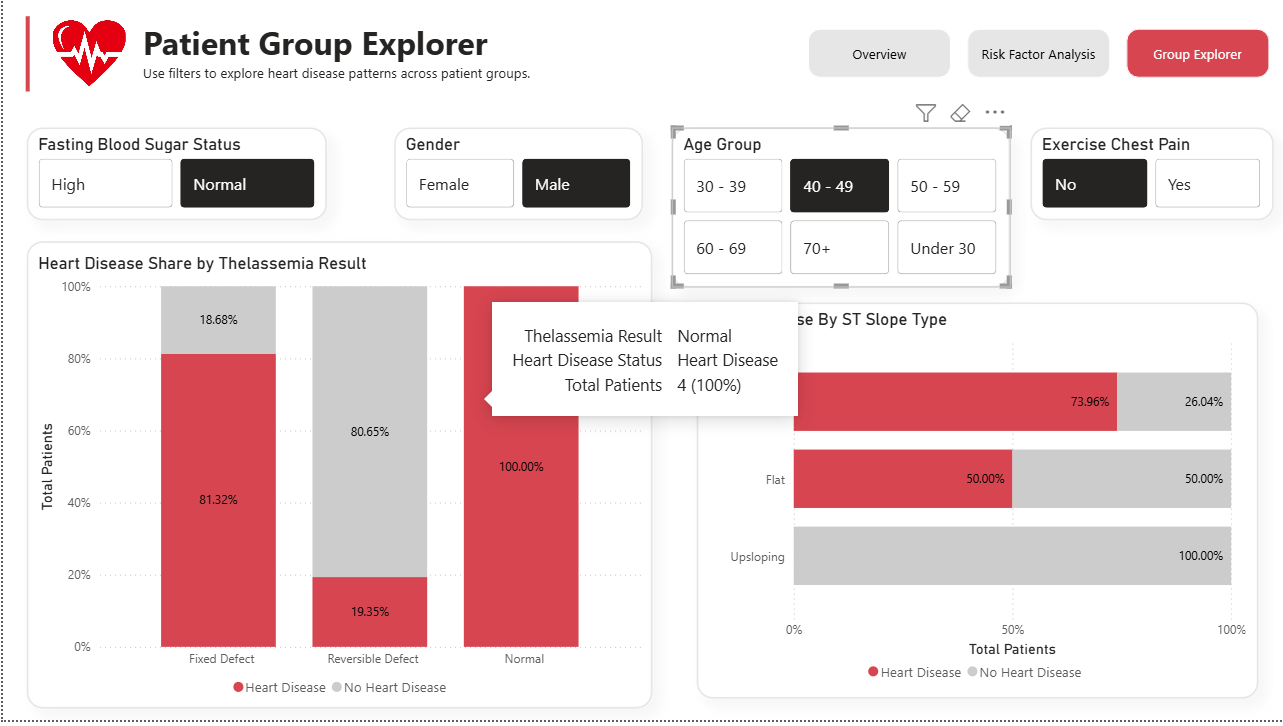

Layout of this report page (visuals, bound fields, positions):
{"tool":"powerbi","page":{"name":"Group Explorer","canvas":[1280,720],"ordinal":2},"visuals":[{"type":"pageNavigator","box":[805.5,28.8,463.8,49.4],"z":0},{"type":"shape","box":[0,16.5,49.4,75.5],"z":1000},{"type":"textbox","box":[134.5,16.5,583.2,75.5],"z":2000},{"type":"image","box":[49.4,16.5,72.7,75.5],"z":3000},{"type":"advancedSlicerVisual","fields":{"Values":["Cardio Heart Dashboard.Age Group"]},"box":[668.6,127.1,338.6,160],"z":4000},{"type":"advancedSlicerVisual","fields":{"Values":["Cardio Heart Dashboard.Gender"]},"box":[391.4,127.1,248.6,92.9],"z":5000},{"type":"advancedSlicerVisual","fields":{"Values":["Cardio Heart Dashboard.Exercise Chest Pain"]},"box":[1027.1,127.1,242.9,92.9],"z":6000},{"type":"hundredPercentStackedColumnChart","title":"Heart Disease Share by Thelassemia Result","fields":{"Category":["Cardio Heart Dashboard.Thelassemia Result"],"Y":["Cardio Heart Dashboard.Total Patients"],"Series":["Cardio Heart Dashboard.Heart Disease Status"]},"box":[24.3,241.4,625.7,467.1],"z":7000},{"type":"hundredPercentStackedBarChart","title":"Heart Disease By ST Slope Type","fields":{"Category":["Cardio Heart Dashboard.ST Slope Type"],"Y":["Cardio Heart Dashboard.Total Patients"],"Series":["Cardio Heart Dashboard.Heart Disease Status"]},"box":[694.3,302.9,561.4,395.7],"z":8000},{"type":"advancedSlicerVisual","fields":{"Values":["Cardio Heart Dashboard.Fasting Blood Sugar Status"]},"box":[24.3,127.1,300,92.9],"z":9000}]}

Visuals, with their boxes in screenshot pixels (x1, y1, x2, y2), scaled from the page's 1280x720 canvas onto the 1283x726 screenshot:
pageNavigator: [left=807, top=29, right=1272, bottom=79]
shape: [left=0, top=17, right=50, bottom=93]
textbox: [left=135, top=17, right=719, bottom=93]
image: [left=50, top=17, right=122, bottom=93]
advancedSlicerVisual - Cardio Heart Dashboard.Age Group: [left=670, top=128, right=1010, bottom=289]
advancedSlicerVisual - Cardio Heart Dashboard.Gender: [left=392, top=128, right=642, bottom=222]
advancedSlicerVisual - Cardio Heart Dashboard.Exercise Chest Pain: [left=1030, top=128, right=1273, bottom=222]
"Heart Disease Share by Thelassemia Result" hundredPercentStackedColumnChart: [left=24, top=243, right=652, bottom=714]
"Heart Disease By ST Slope Type" hundredPercentStackedBarChart: [left=696, top=305, right=1259, bottom=704]
advancedSlicerVisual - Cardio Heart Dashboard.Fasting Blood Sugar Status: [left=24, top=128, right=325, bottom=222]
